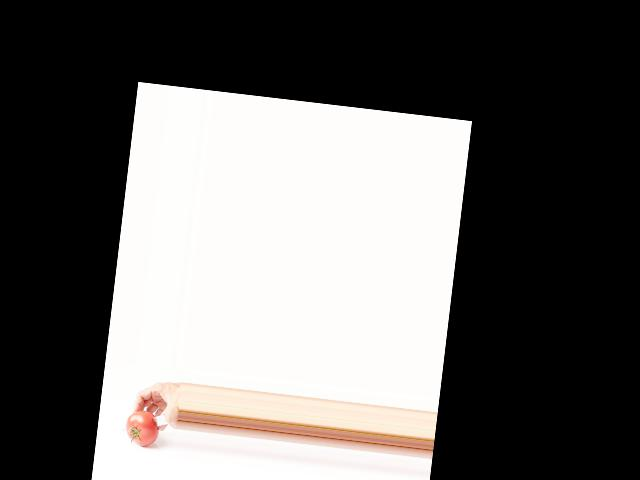tomato: (124, 408, 160, 447)
